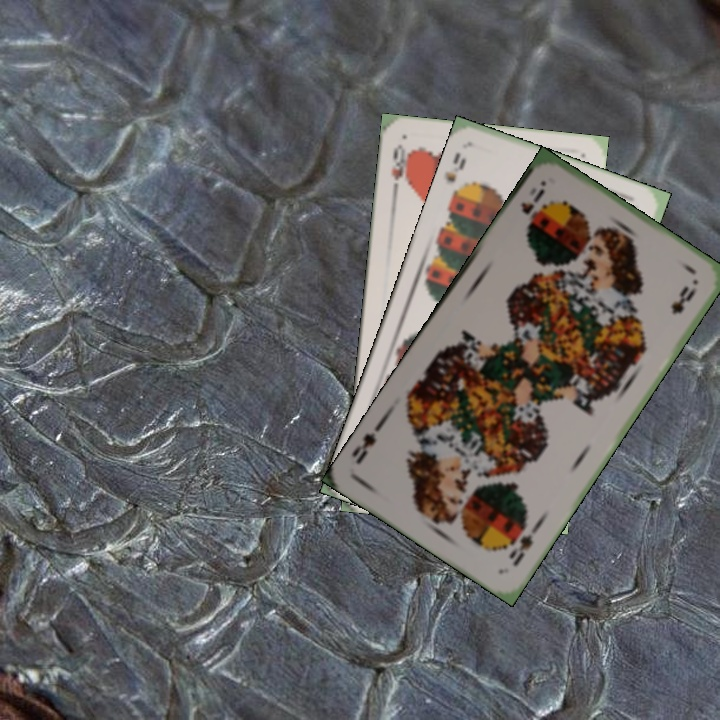HO: (387, 140, 412, 199)
S9: (441, 148, 469, 203)
SO: (505, 520, 542, 569), (517, 184, 548, 233)
